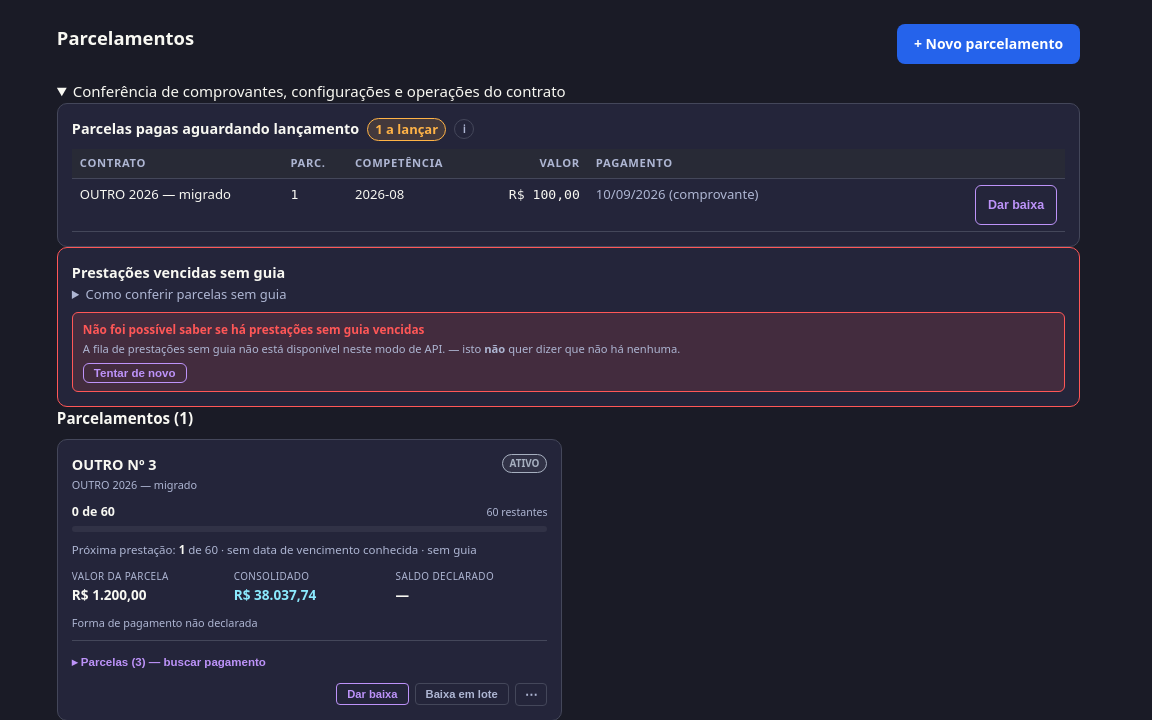
o 'Dar baixa' do card responde mesmo quando não há o que baixar › confirma baixa pelo valor pago e data oficial quando o documento foi atualizado depois
Expected: the text "R$ 100,00" is shown, [478, 178, 588, 231]
Expected: the text "10/09/2026 (comprovante)" is shown, [588, 178, 813, 231]
Click the button titled "Grava os lançamentos de baixa desta parcela (pede confirmação)." in the row of "2026-08" at x=1016, y=205, box [975, 185, 1057, 225]
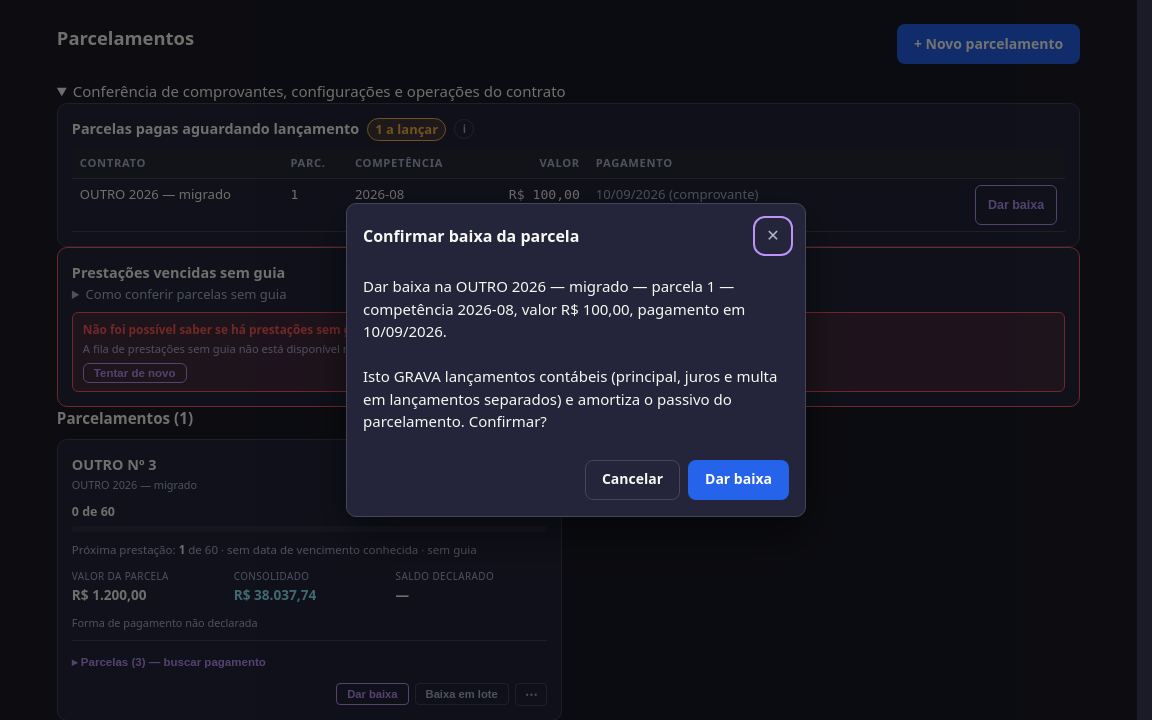
Now the dialog shows "100,00", box [363, 276, 781, 431]
Now the dialog shows "10/09/2026", box [363, 276, 781, 431]
